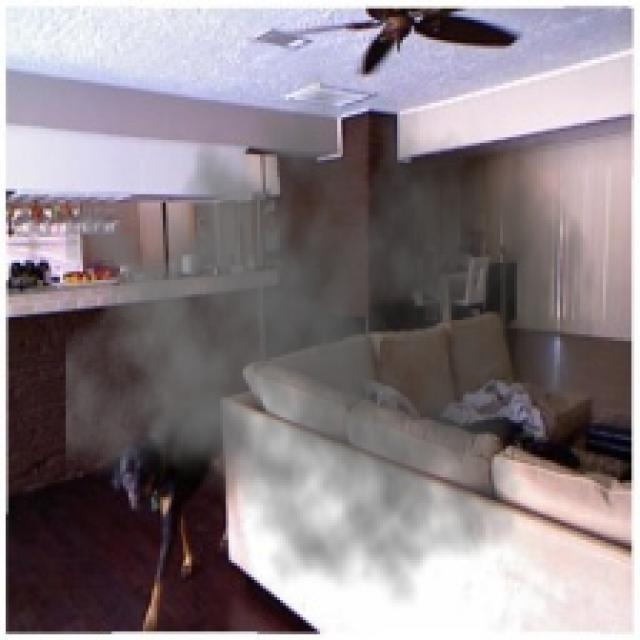Smoke: (65, 46, 598, 608)
